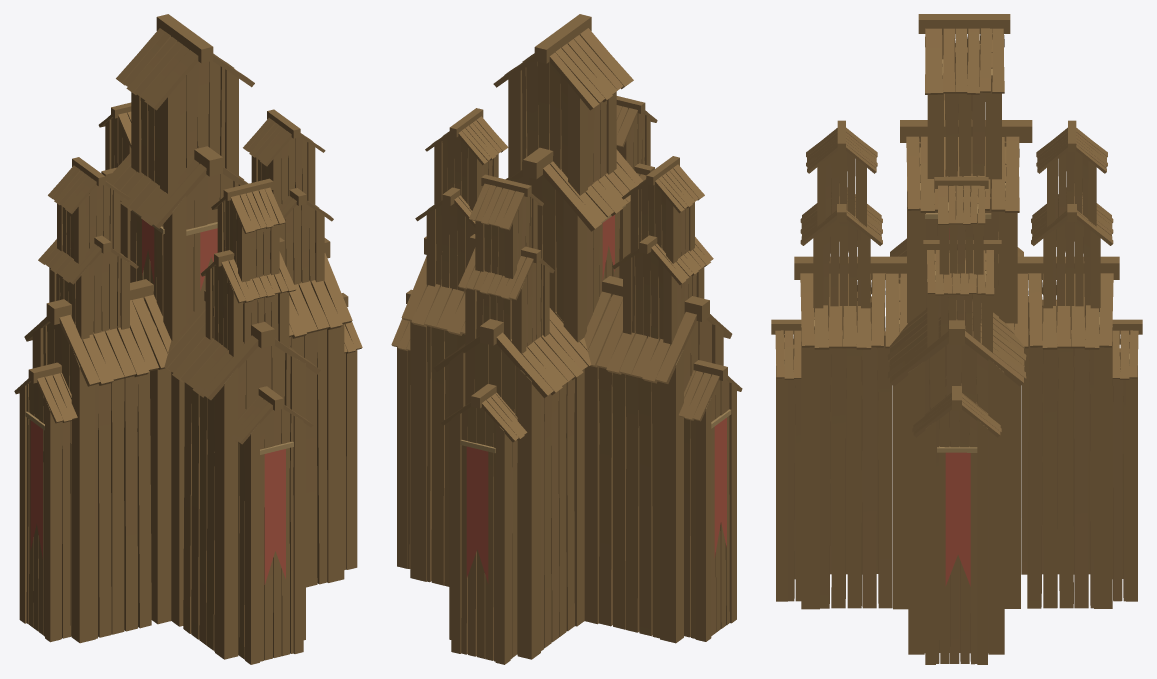
The model's file is Temple First Age Leve.glb.
The picture shows the model from 3 angles, left to right: view 1: azimuth 30°, elevation 25°; view 2: azimuth 150°, elevation 25°; view 3: azimuth 270°, elevation 25°; orthographic projection. The views are drawn at different scales.
Parts seen in each view (by area): view 1: Temple_FirstAge_Level3; view 2: Temple_FirstAge_Level3; view 3: Temple_FirstAge_Level3.
Part boxes in pixels (bbox=[...]): Temple_FirstAge_Level3: bbox=[14, 14, 362, 664]; Temple_FirstAge_Level3: bbox=[391, 14, 742, 664]; Temple_FirstAge_Level3: bbox=[771, 14, 1142, 664].
Size of the model in its own units: 1.81 by 3.08 by 1.81.
